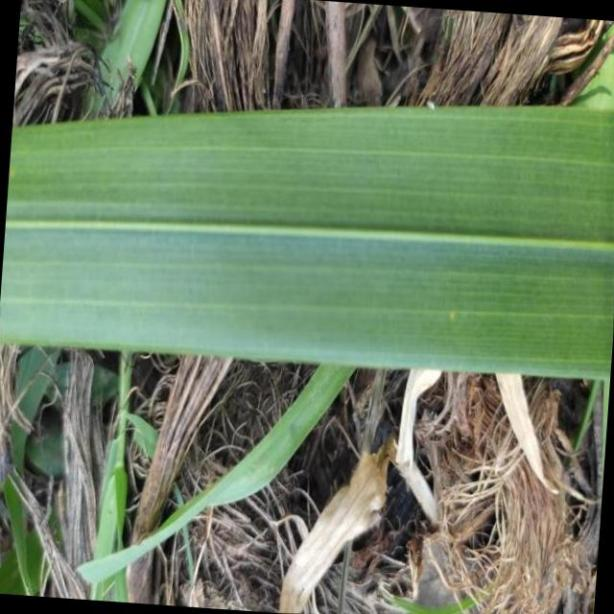Healthy: (0, 103, 614, 380)
